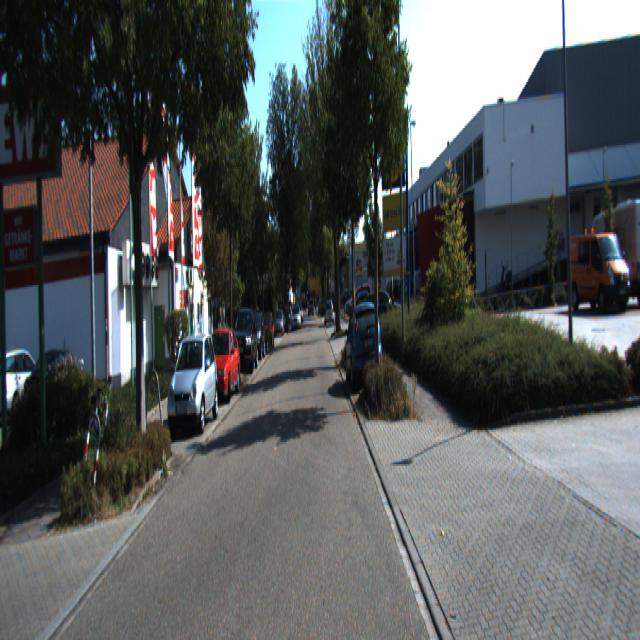Car: (566, 219, 633, 315), (166, 332, 218, 438), (0, 347, 56, 431), (345, 299, 382, 389), (201, 326, 240, 404), (232, 307, 259, 377), (244, 312, 266, 364)
